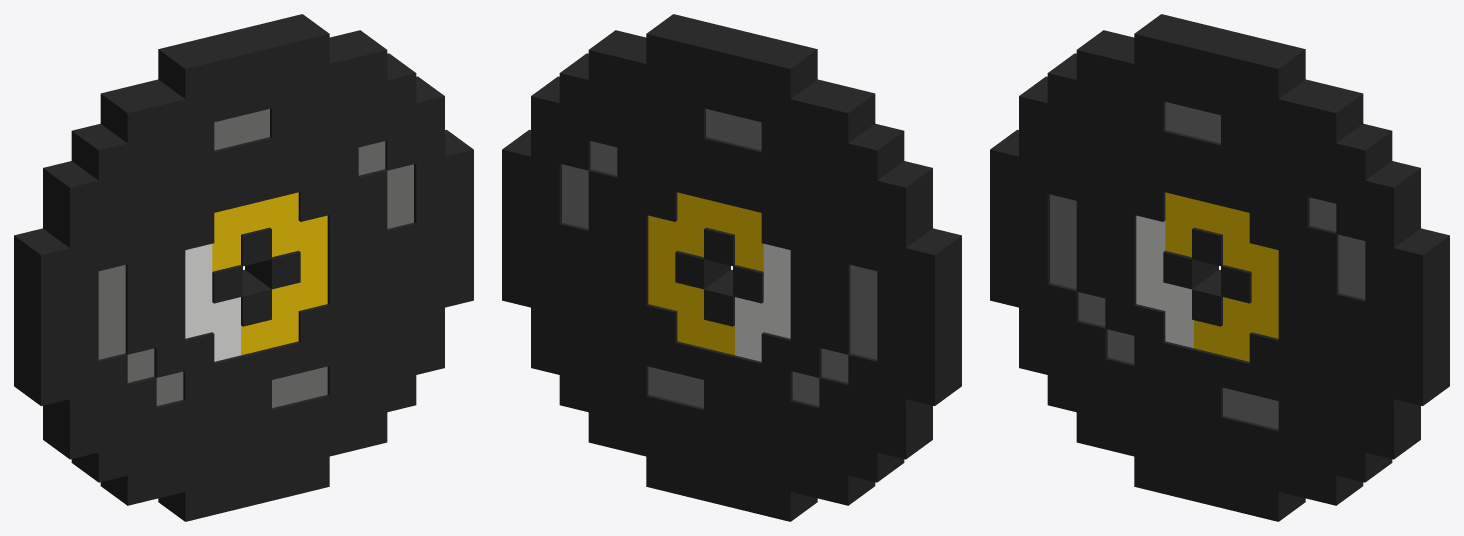
Rendered from BASIC-RECORD.obj.
The picture shows the model from 3 angles, left to right: view 1: azimuth 30°, elevation 25°; view 2: azimuth 150°, elevation 25°; view 3: azimuth 330°, elevation 25°; orthographic projection.
Visible parts, largest first — view 1: Body2, Body43, Body22, Body33, Body6, Body3, Body7, Body14; view 2: Body2, Body43, Body22, Body33, Body6, Body3, Body7, Body14; view 3: Body2, Body43, Body22, Body33, Body6, Body3, Body7, Body14.
Part boxes in pixels (bbox=[...]): Body2: bbox=[14, 14, 473, 521]; Body43: bbox=[212, 192, 327, 355]; Body22: bbox=[212, 227, 300, 326]; Body33: bbox=[185, 244, 240, 361]; Body6: bbox=[98, 265, 183, 405]; Body3: bbox=[358, 141, 413, 228]; Body7: bbox=[214, 109, 269, 150]; Body14: bbox=[272, 366, 327, 407]; Body2: bbox=[502, 14, 961, 521]; Body43: bbox=[648, 192, 763, 355]; Body22: bbox=[675, 227, 763, 326]; Body33: bbox=[735, 244, 790, 361]; Body6: bbox=[792, 265, 877, 405]; Body3: bbox=[562, 141, 617, 228]; Body7: bbox=[706, 109, 761, 150]; Body14: bbox=[648, 366, 703, 407]; Body2: bbox=[990, 14, 1449, 521]; Body43: bbox=[1165, 192, 1278, 361]; Body22: bbox=[1163, 227, 1251, 326]; Body33: bbox=[1136, 215, 1193, 348]; Body6: bbox=[1050, 194, 1134, 363]; Body3: bbox=[1309, 197, 1365, 299]; Body7: bbox=[1165, 102, 1220, 143]; Body14: bbox=[1223, 387, 1278, 429].
Size of the model in its own units: 12 by 12 by 1.3.
